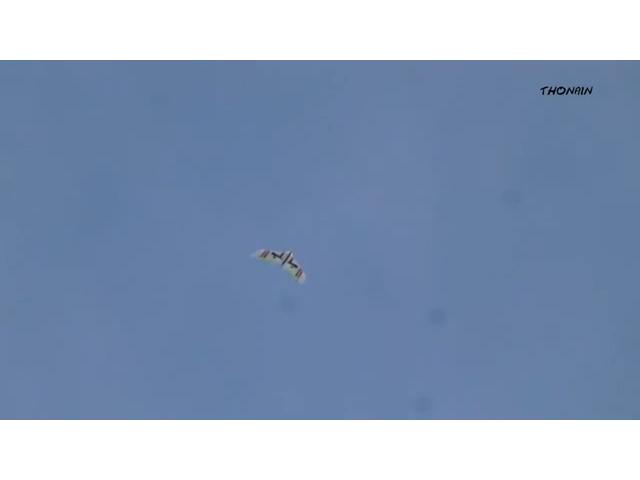Anti-Drone: (254, 250, 306, 284)
